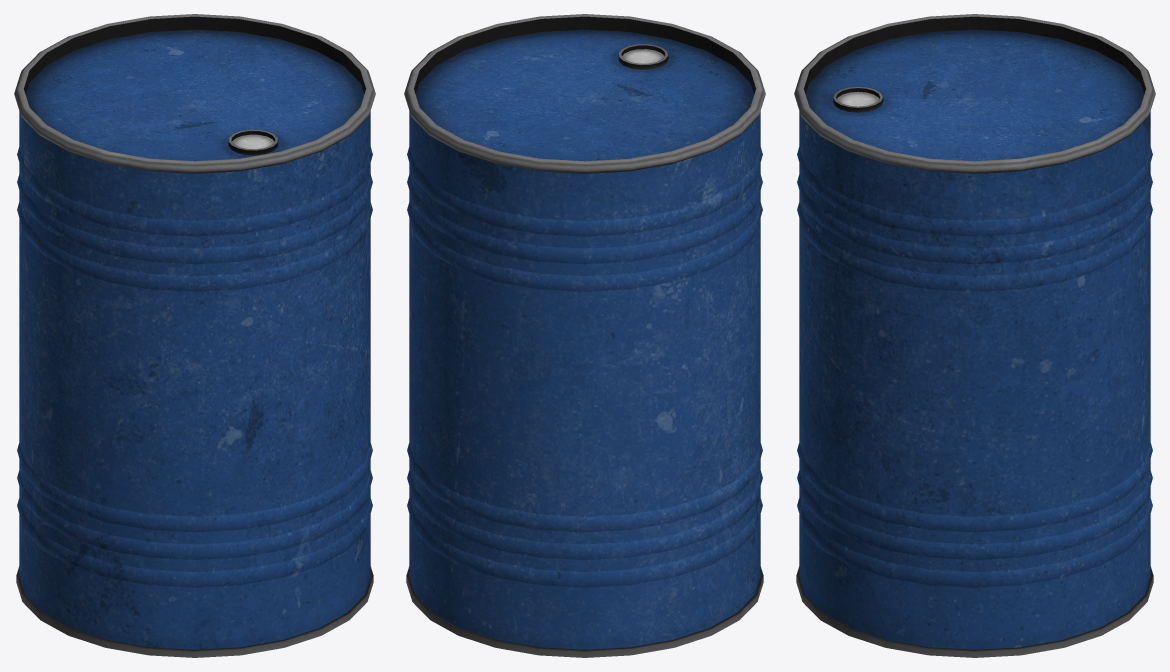
The model's file is barrel.FBX.
3 views of the same model, side by side, from view 1: azimuth 30°, elevation 25°; view 2: azimuth 150°, elevation 25°; view 3: azimuth 270°, elevation 25° (orthographic).
Parts seen in each view (by area): view 1: barrel_1; view 2: barrel_1; view 3: barrel_1.
Part boxes in pixels (left/top/right/bottom): barrel_1: left=14, top=14, right=375, bottom=657; barrel_1: left=404, top=14, right=765, bottom=657; barrel_1: left=794, top=14, right=1155, bottom=657.
Bounding box in the file's own units: 0.6176 × 0.931 × 0.6176.
